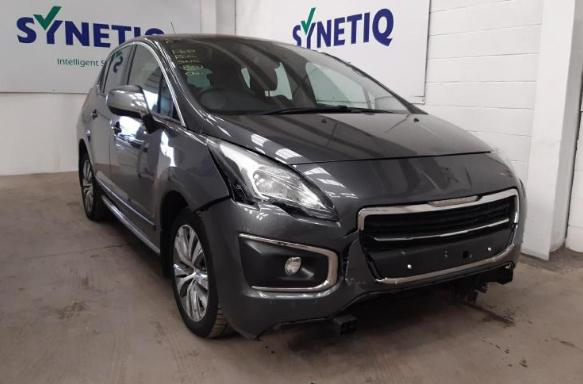Broken part: (255, 262, 514, 341), (338, 186, 519, 286), (206, 135, 336, 218), (192, 163, 340, 226)
Missing part: (399, 235, 495, 277)
